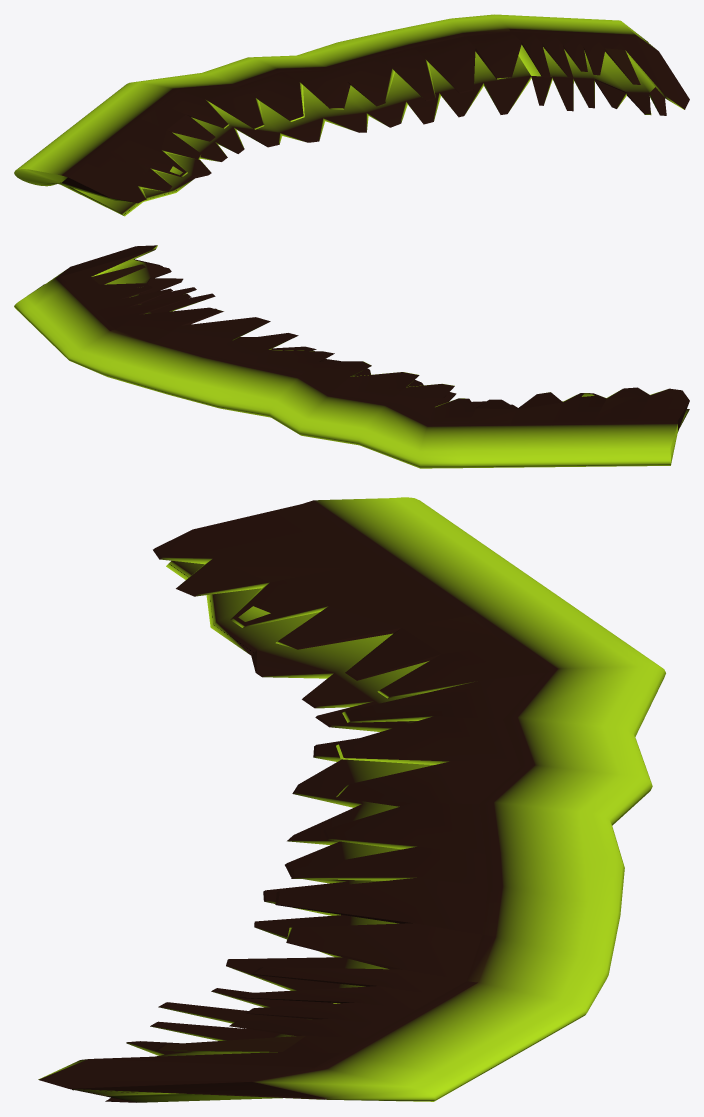
File: wingR.fbx
The picture shows the model from 3 angles, top to bottom: view 1: azimuth 30°, elevation 25°; view 2: azimuth 150°, elevation 25°; view 3: azimuth 270°, elevation 25°; orthographic projection. The views are drawn at different scales.
Visible parts, largest first — view 1: pCylinder1; view 2: pCylinder1; view 3: pCylinder1.
Boxes of the visible parts, x1,y1,x2,y2 form: pCylinder1: [14, 14, 689, 216]; pCylinder1: [14, 245, 689, 468]; pCylinder1: [38, 497, 665, 1102].
Size of the model in its own units: 4.67 by 0.2344 by 2.09.
